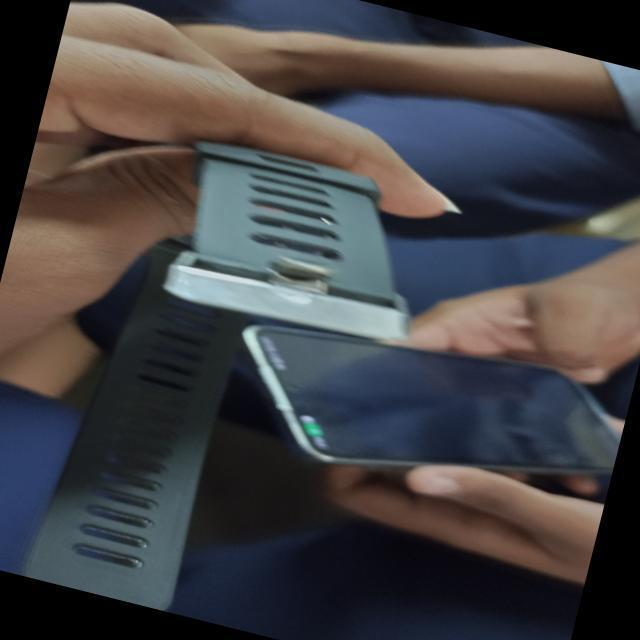Watch: (12, 141, 395, 578)
